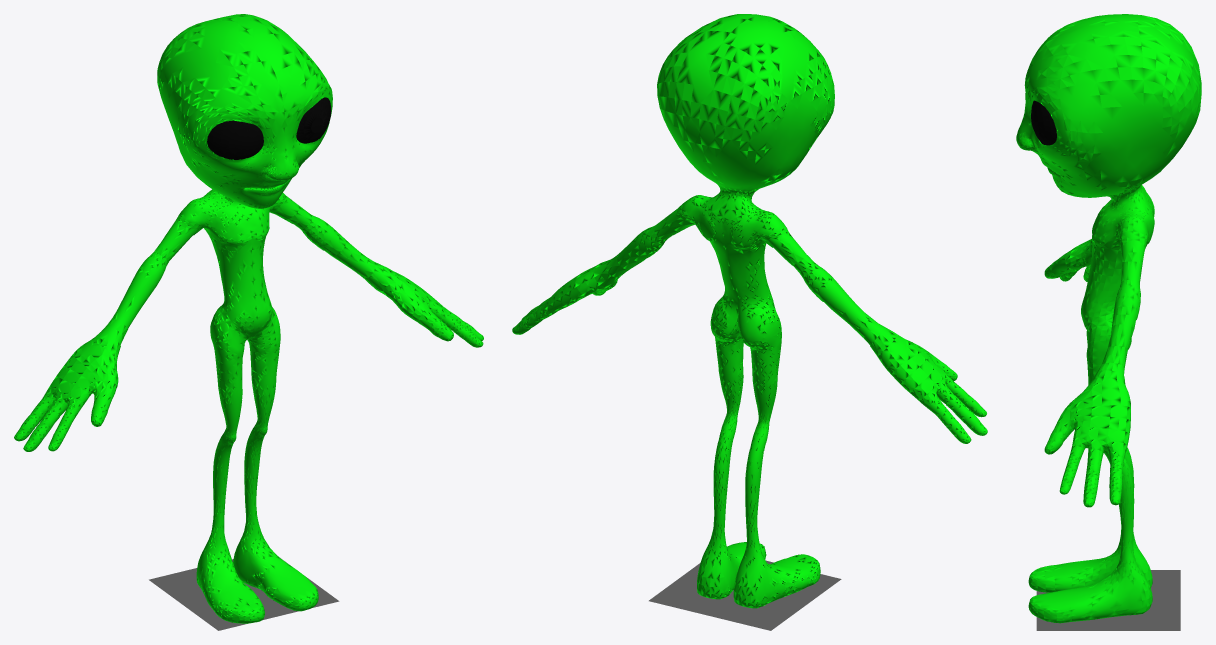
The model's file is aliendae.DAE.
3 views of the same model, side by side, from view 1: azimuth 30°, elevation 25°; view 2: azimuth 150°, elevation 25°; view 3: azimuth 270°, elevation 25° (orthographic). The views are drawn at different scales.
Parts seen in each view (by area): view 1: alien; view 2: alien; view 3: alien.
Part boxes in pixels (box(x1,y1,x2,y2)): alien: box(14, 14, 483, 630); alien: box(512, 14, 987, 630); alien: box(1016, 14, 1201, 630).
Bounding box in the file's own units: 7.58 × 8.87 × 2.58.
